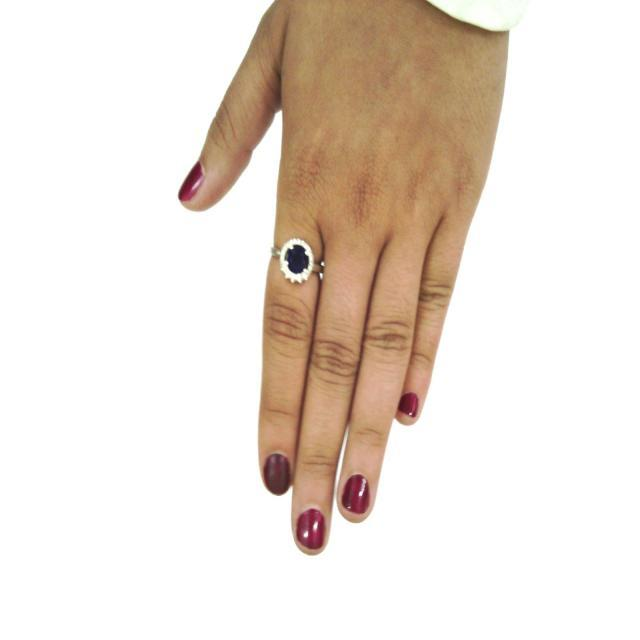Fingernail: (297, 509, 325, 552), (265, 455, 291, 495), (343, 475, 369, 514), (180, 163, 203, 200), (400, 393, 418, 417)
